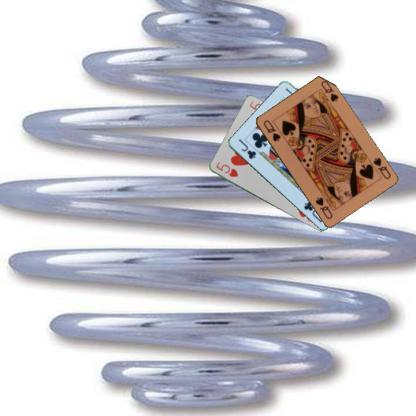5h: (213, 160, 239, 178)
Jc: (236, 136, 257, 160)
Qs: (260, 117, 282, 143), (370, 155, 392, 180)
